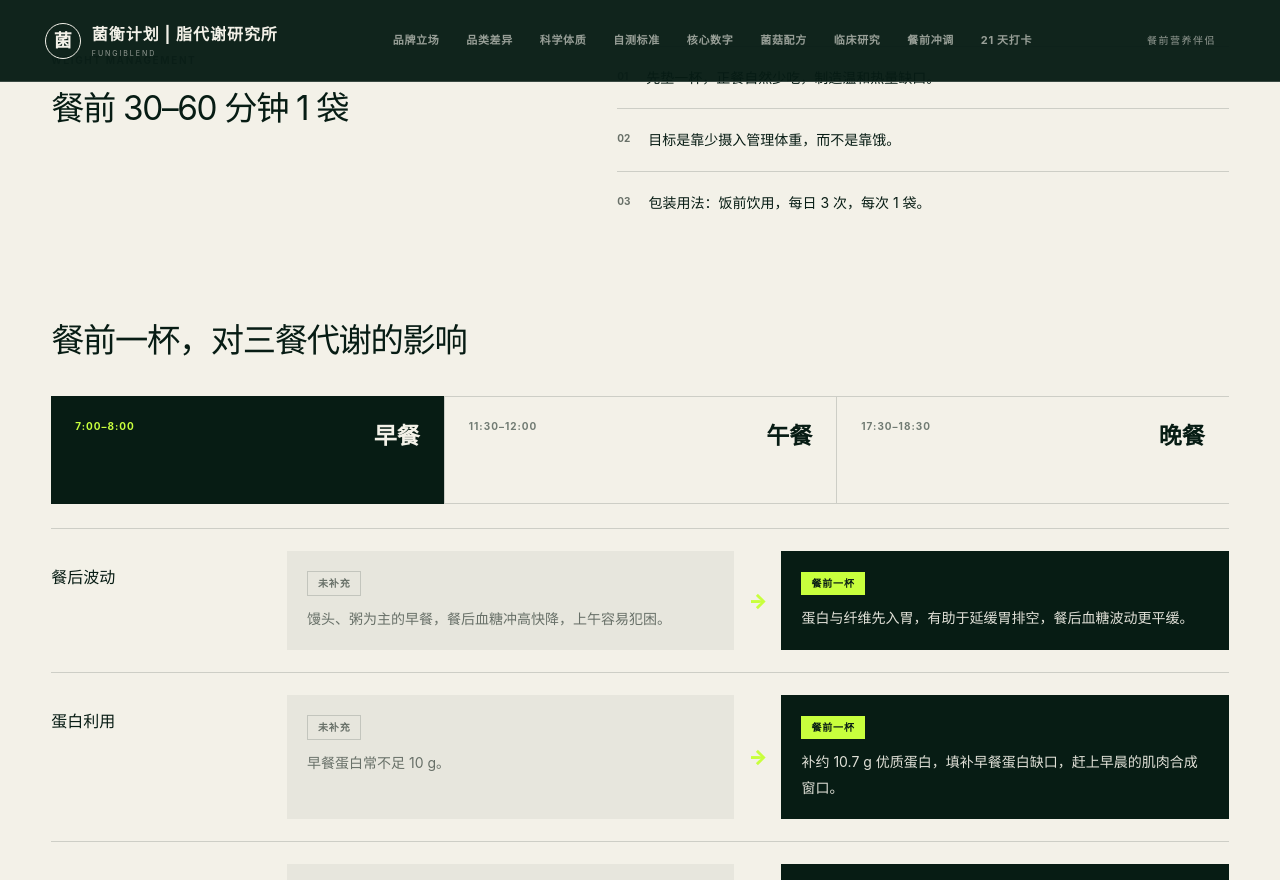
Test: science core section › switches meal timeline tabs and compares before and after drinking
(page scrolled)
Expected: the panel "早餐" shows "延缓胃排空", [802,609,1194,626]
Click the tab "17:30–18:30 晚餐": point(896, 426) [836,396,1229,504]
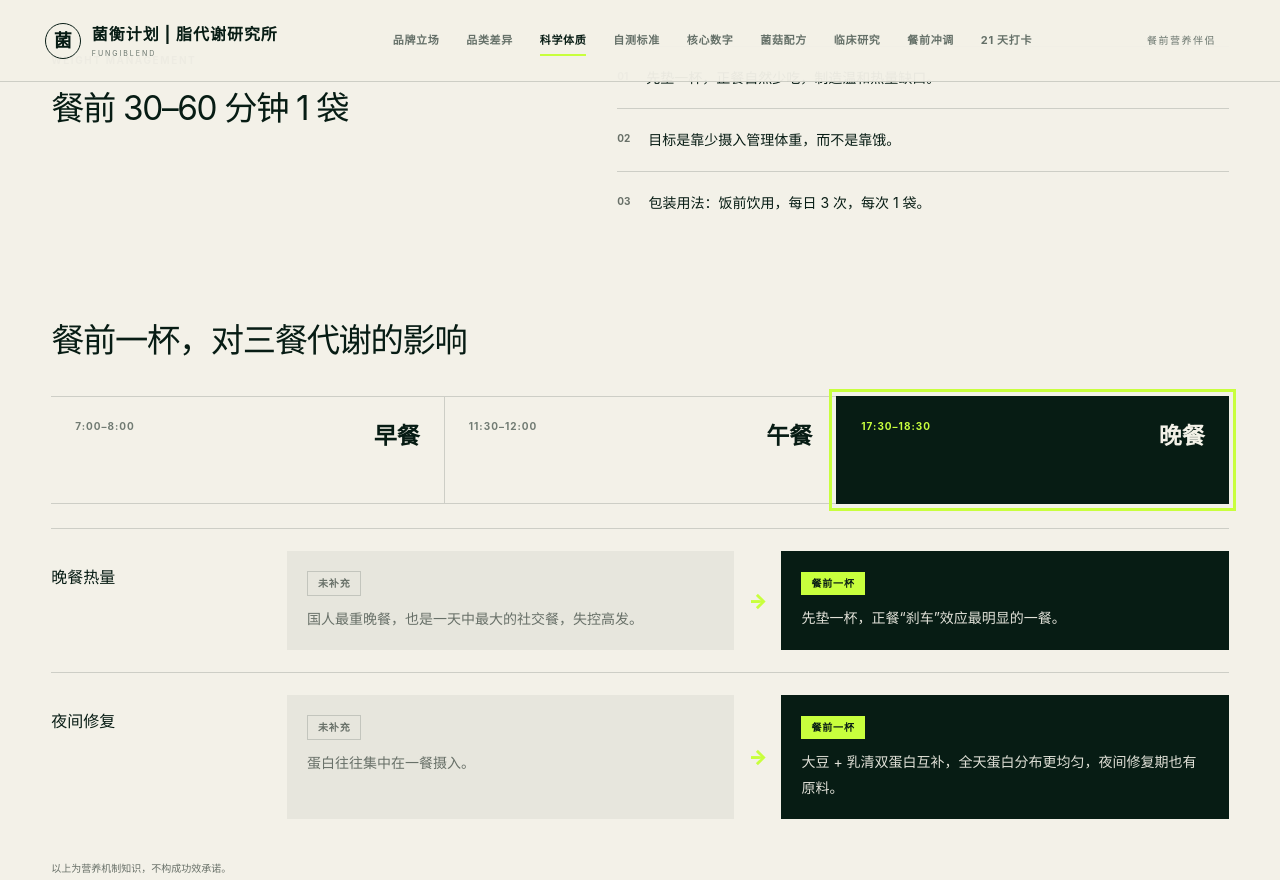
Result: the panel "晚餐" shows "社交餐" at [51,504,1229,841]
Result: the panel "晚餐" shows "夜间修复" at [51,711,115,731]
